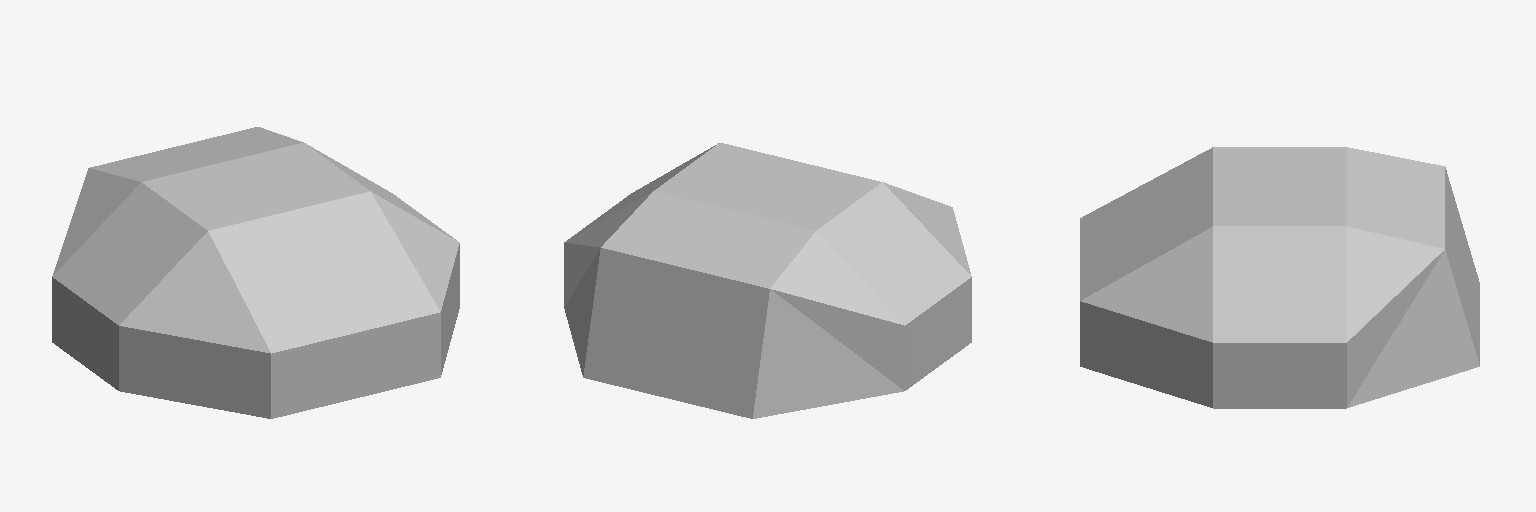
The model's file is enemy_turret.obj.
The picture shows the model from 3 angles: view 1: azimuth 30°, elevation 25°; view 2: azimuth 150°, elevation 25°; view 3: azimuth 270°, elevation 25°; orthographic projection.
Visible parts, largest first — view 1: Tank_Turret_Cylinder.004; view 2: Tank_Turret_Cylinder.004; view 3: Tank_Turret_Cylinder.004.
Boxes of the visible parts, <box> form: Tank_Turret_Cylinder.004: <box>52,127,459,418</box>; Tank_Turret_Cylinder.004: <box>564,143,971,418</box>; Tank_Turret_Cylinder.004: <box>1080,147,1479,408</box>.
Bounding box in the file's own units: 1.94 × 0.7538 × 1.97.